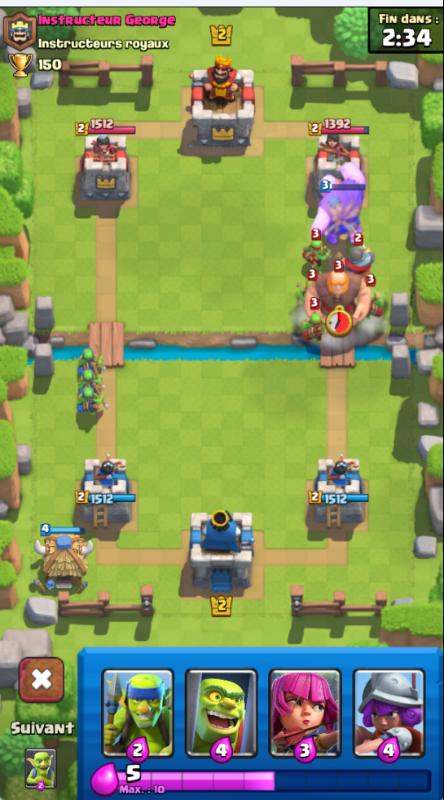chevalier: (338, 240, 376, 282)
geant: (311, 165, 367, 243), (304, 269, 370, 331)
gobelin_lances: (360, 288, 388, 327), (302, 235, 330, 271), (76, 387, 106, 419), (74, 347, 104, 375), (302, 310, 327, 343), (77, 371, 103, 393), (298, 278, 314, 304)
